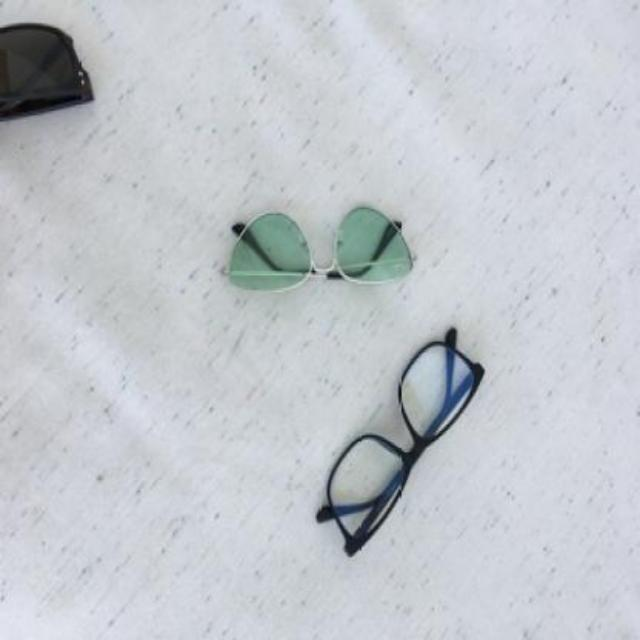glasses: (313, 329, 483, 553)
sunglasses: (220, 205, 416, 292)
